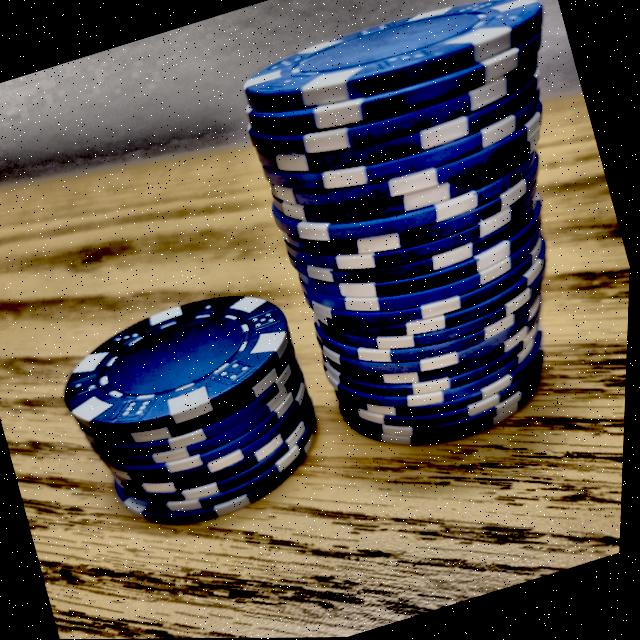Chip: (163, 0, 640, 492), (28, 254, 363, 562)
